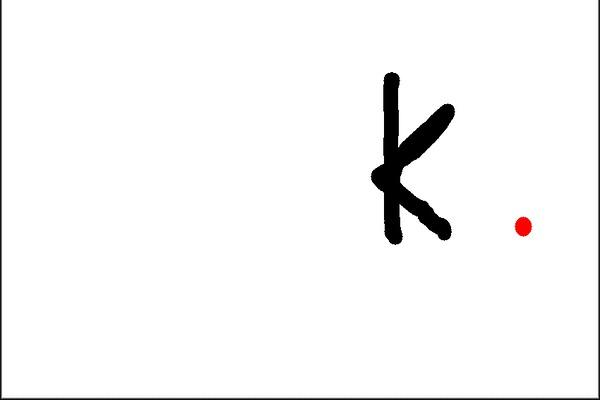K: (366, 67, 463, 251)
